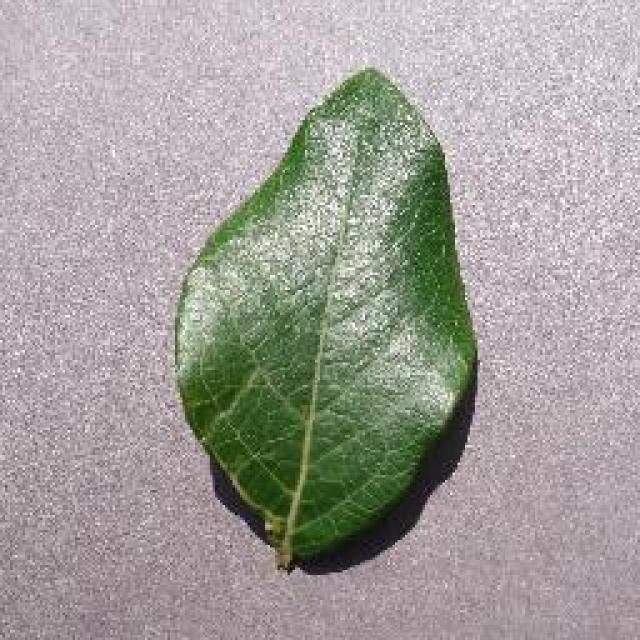Blu_healthy: (144, 144, 481, 490)
